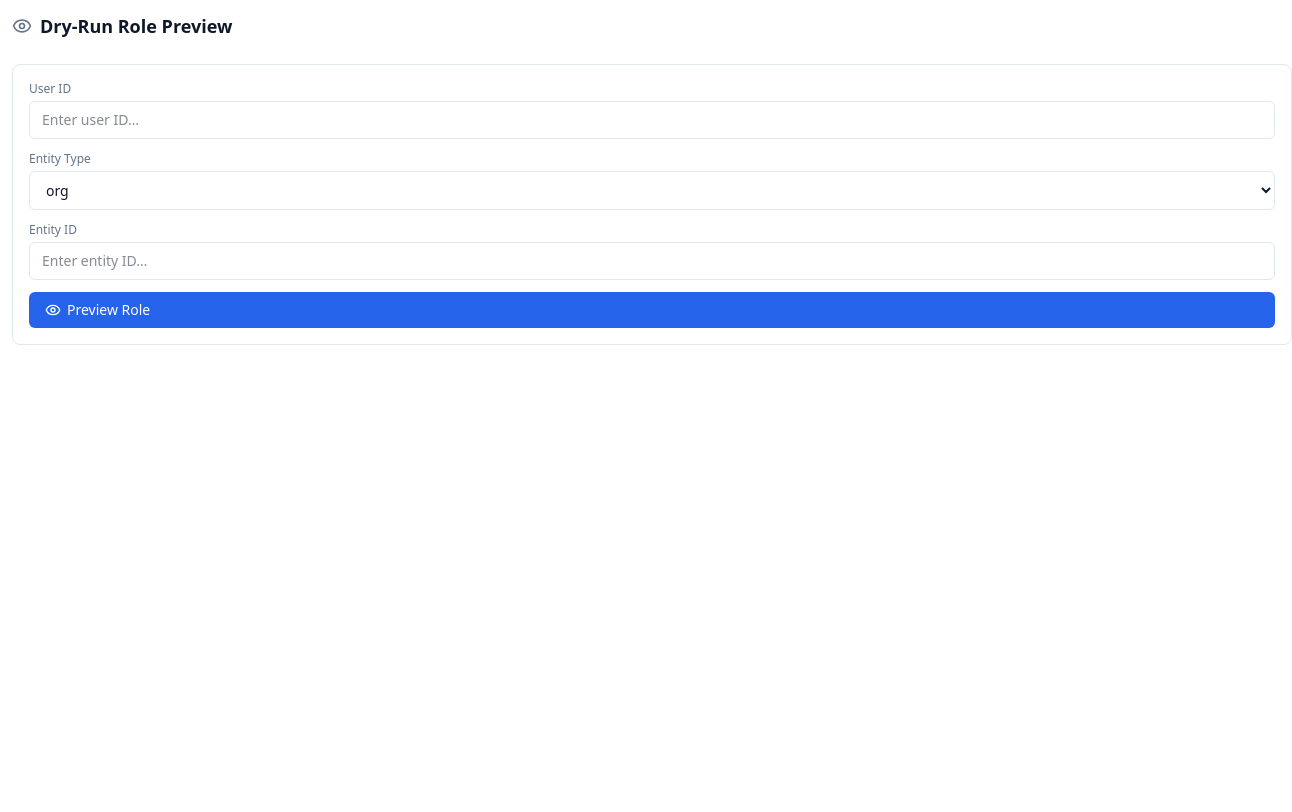
Test: RBACPolicyPreview › displays entity type in result
In the field with test id "preview-user-id": [652, 120] box [29,101,1275,139], type "user-123"
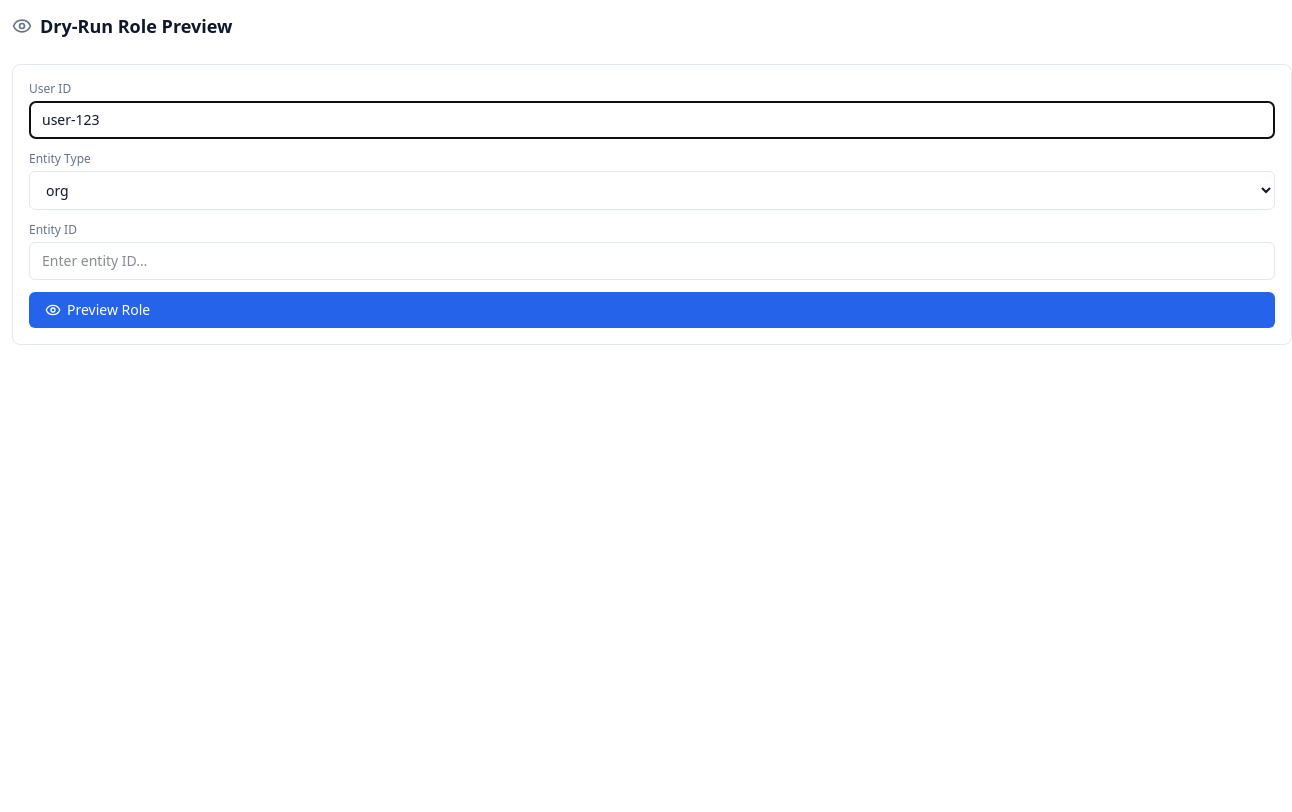
Select "space" in the dropdown with test id "preview-entity-type": [652, 190] box [29,171,1275,210]
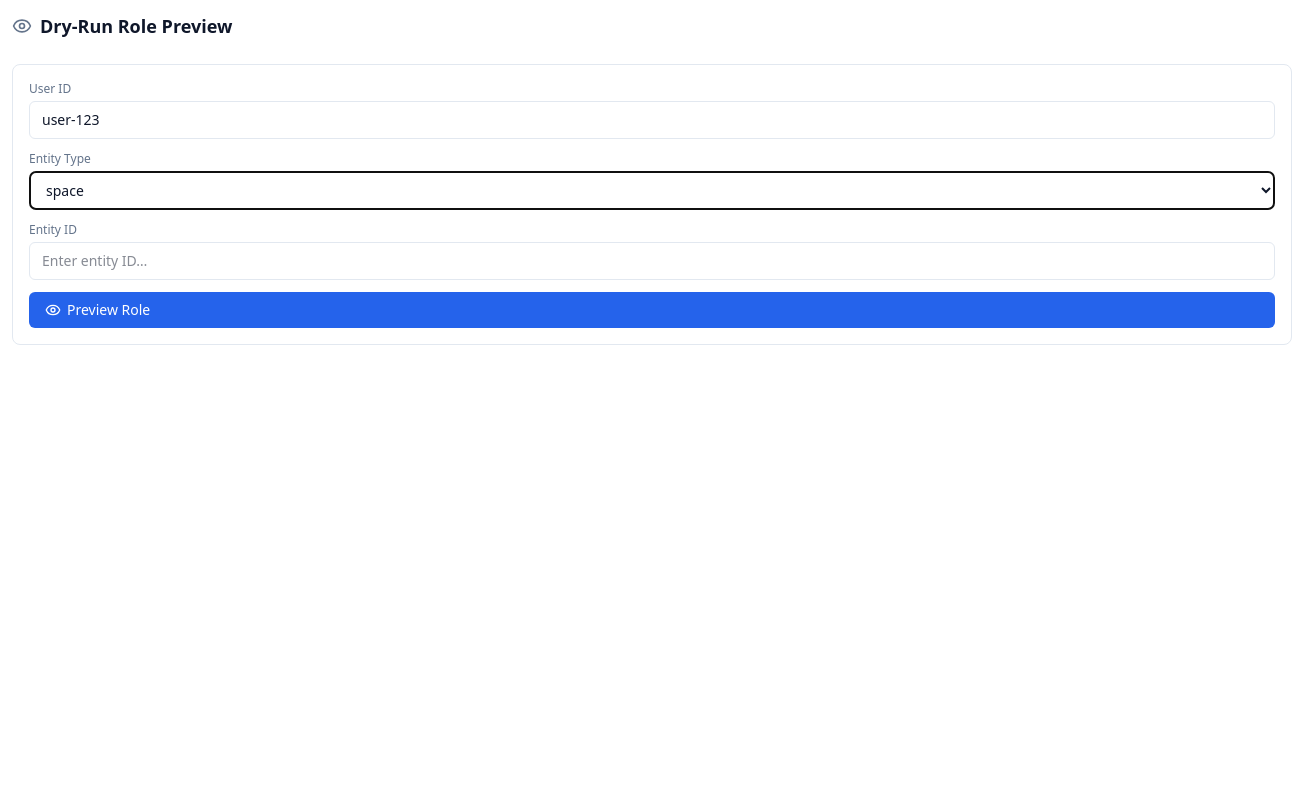
In the field with test id "preview-entity-id": [652, 261] box [29,242,1275,280], type "space-789"
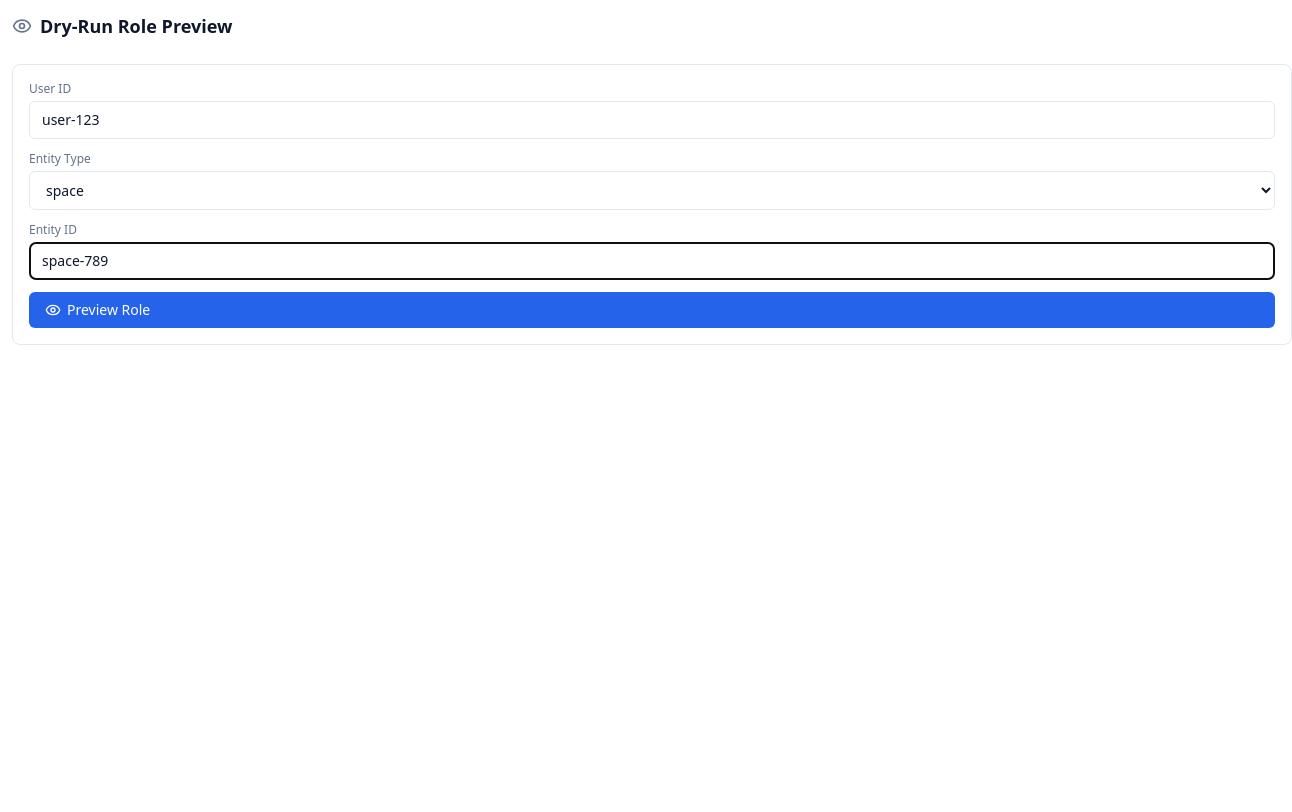
Click the button with test id "preview-submit-btn": [109, 310] box [29,292,1275,328]
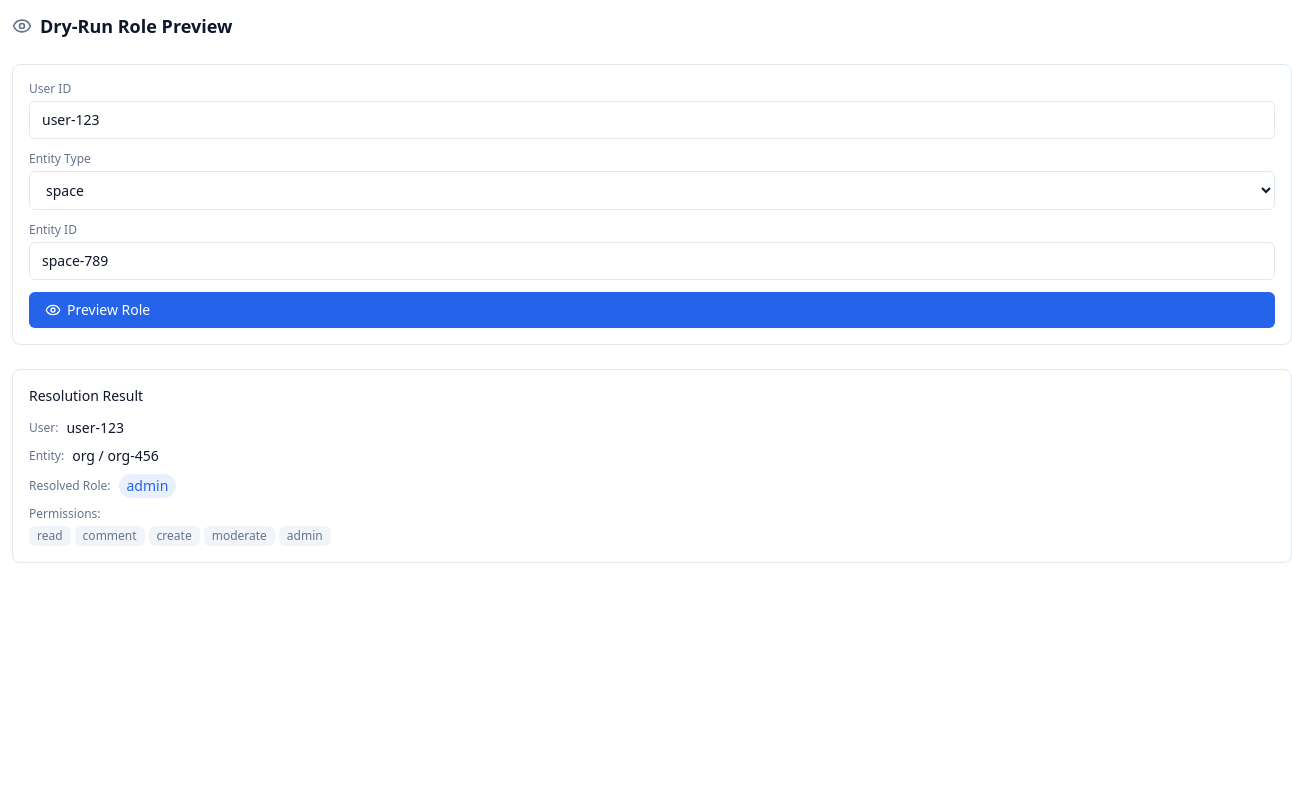
Now the element with test id "preview-result" is shown, box [12,369,1291,563]
